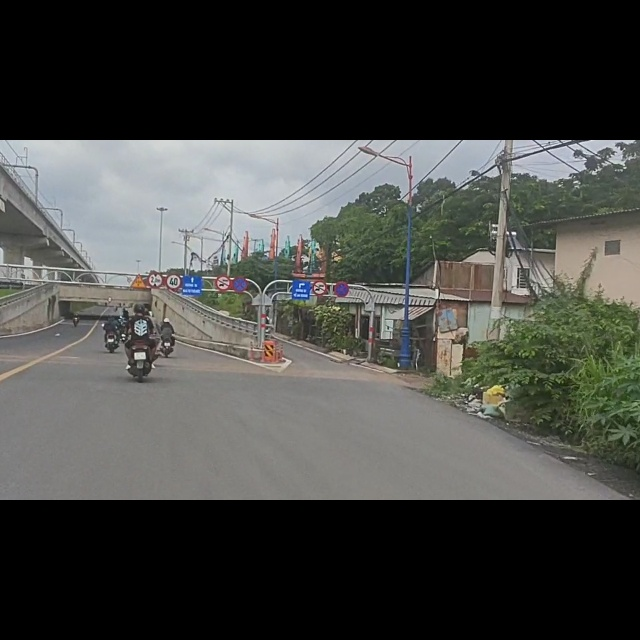bien_nguy_hiem: (130, 237, 148, 265), (215, 242, 231, 271), (233, 243, 249, 271), (334, 252, 350, 280), (166, 238, 182, 265), (148, 235, 163, 263), (312, 249, 327, 277)
